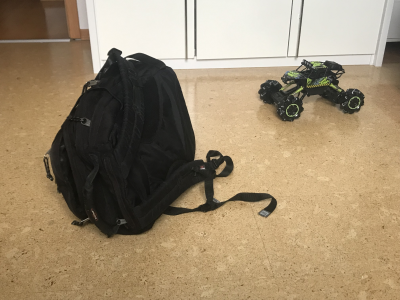remote control car: (255, 57, 365, 122)
